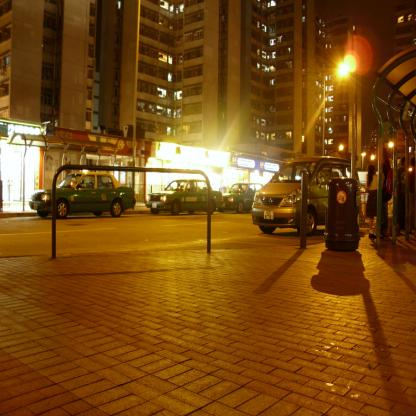Car: (253, 158, 363, 237), (30, 173, 137, 218), (146, 180, 224, 217), (223, 183, 264, 215)
